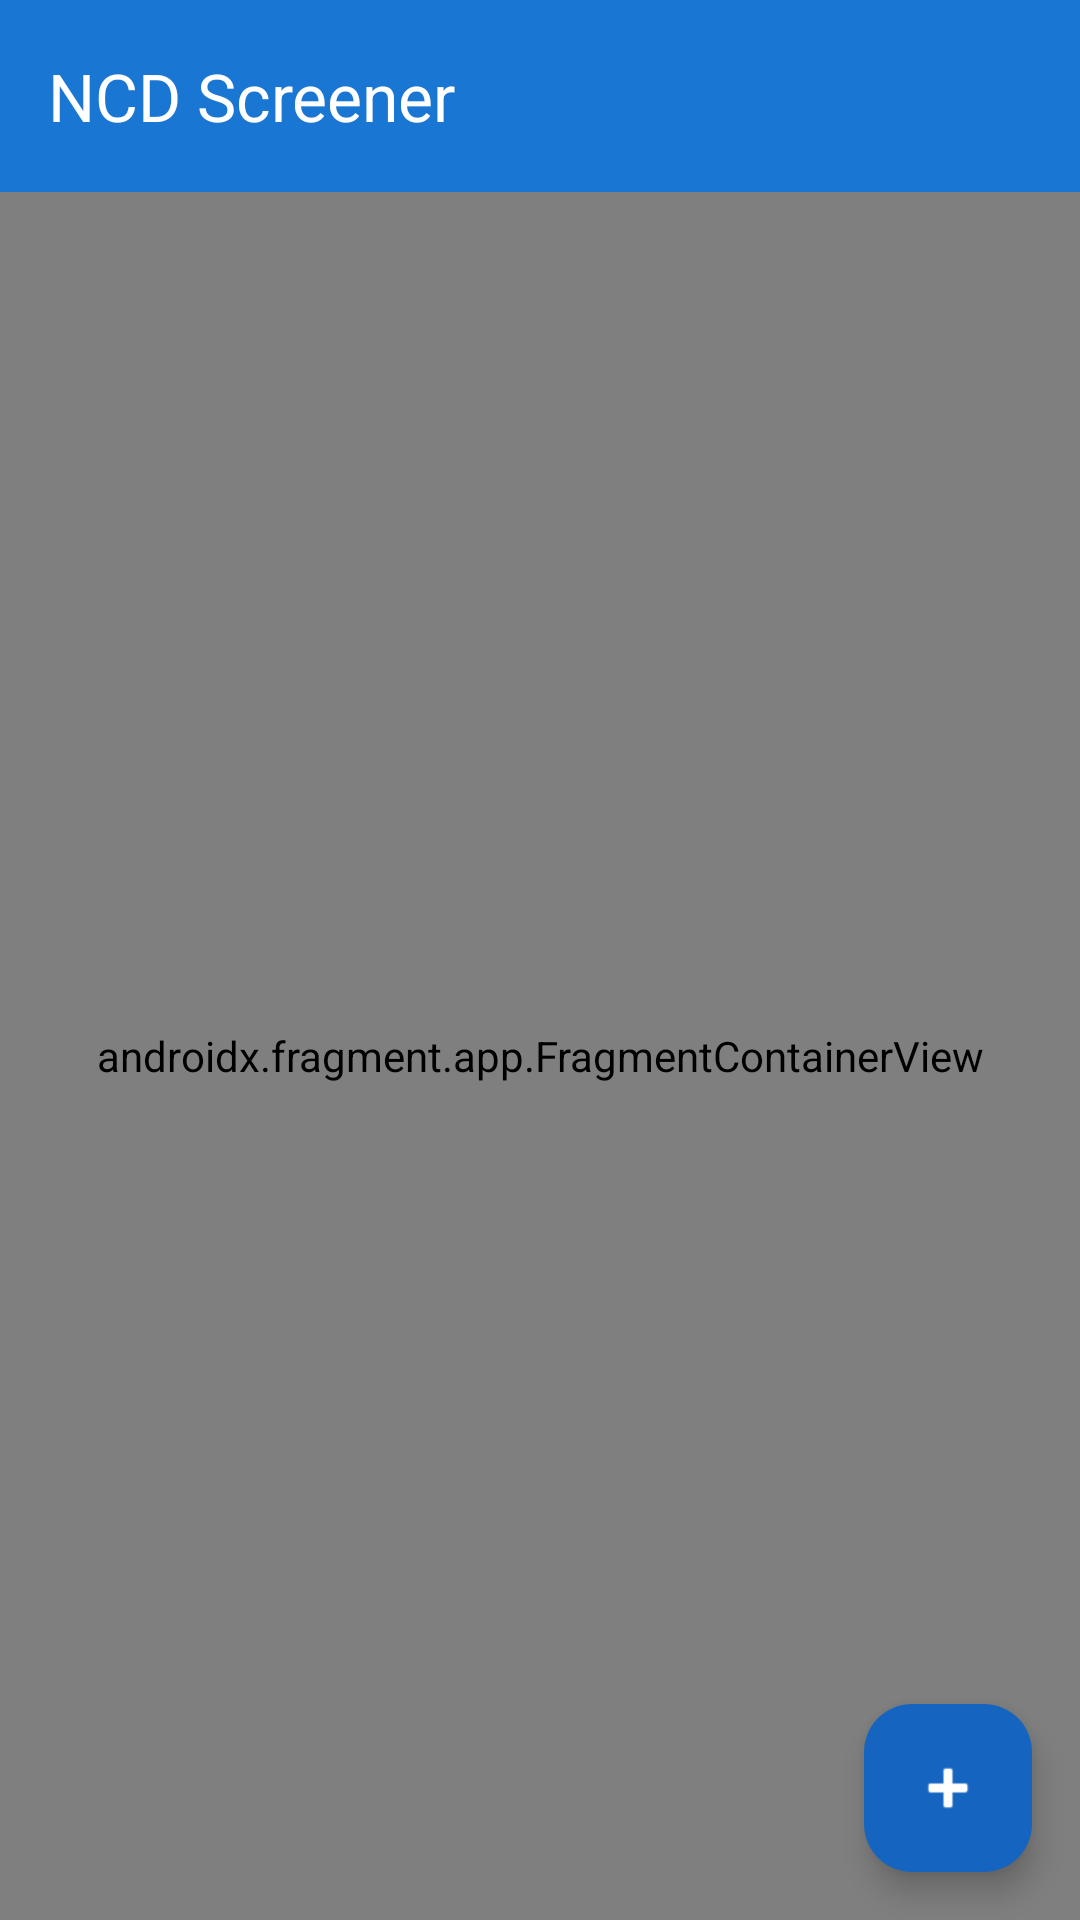

Point at icon controls on the screen. Image size 1080*1920, points as (x,y).
New Screening: (948,1788)
